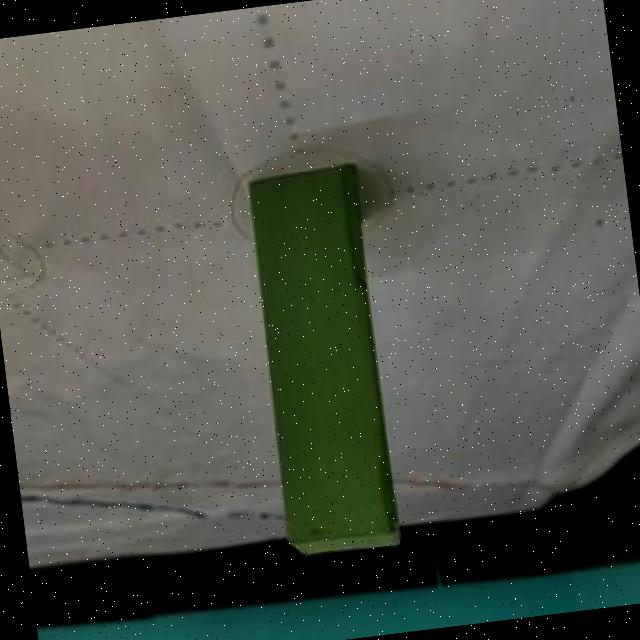greenbox: (237, 162, 406, 562)
